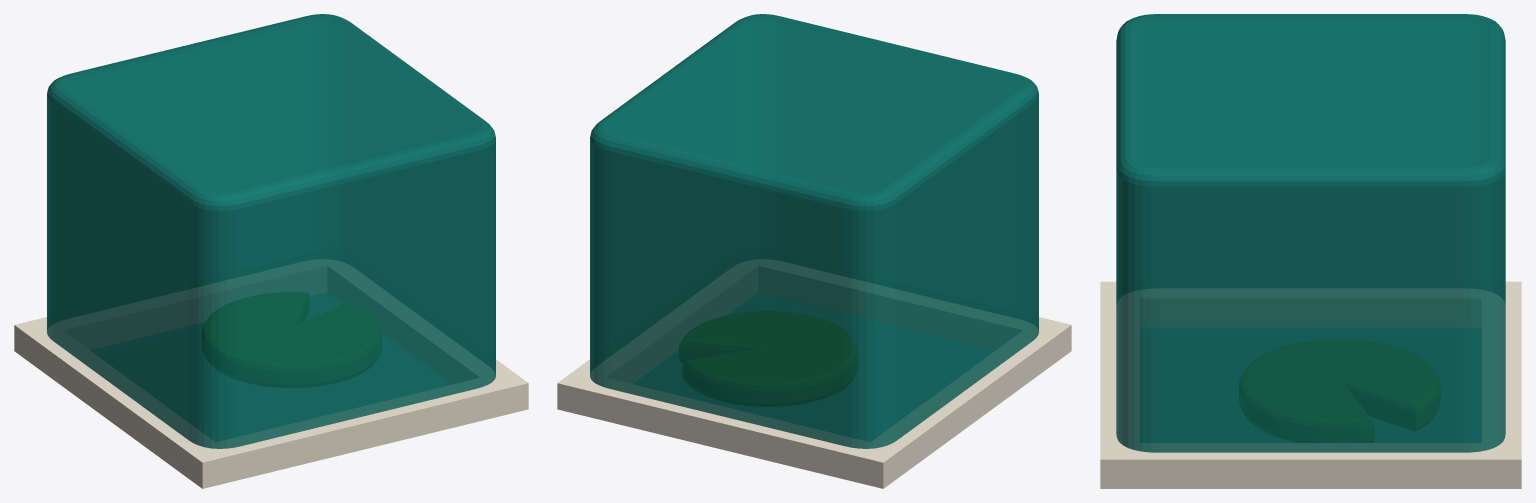
File: teal-water-block.obj
3 views of the same model, side by side, from view 1: azimuth 30°, elevation 25°; view 2: azimuth 150°, elevation 25°; view 3: azimuth 270°, elevation 25° (orthographic). The views are drawn at different scales.
Visible parts, largest first — view 1: water_block, foam_bar, pad_top; view 2: water_block, foam_bar, pad_top; view 3: water_block, foam_bar, pad_top.
Boxes of the visible parts, box(x1,y1,x2,y2) form: water_block: box(47, 14, 495, 448); foam_bar: box(14, 259, 528, 488); pad_top: box(202, 292, 381, 387); water_block: box(590, 14, 1038, 448); foam_bar: box(557, 259, 1071, 488); pad_top: box(679, 311, 857, 406); water_block: box(1116, 14, 1505, 452); foam_bar: box(1100, 281, 1521, 488); pad_top: box(1239, 340, 1439, 442).
Size of the model in its own units: 1.17 by 0.98 by 1.17.
